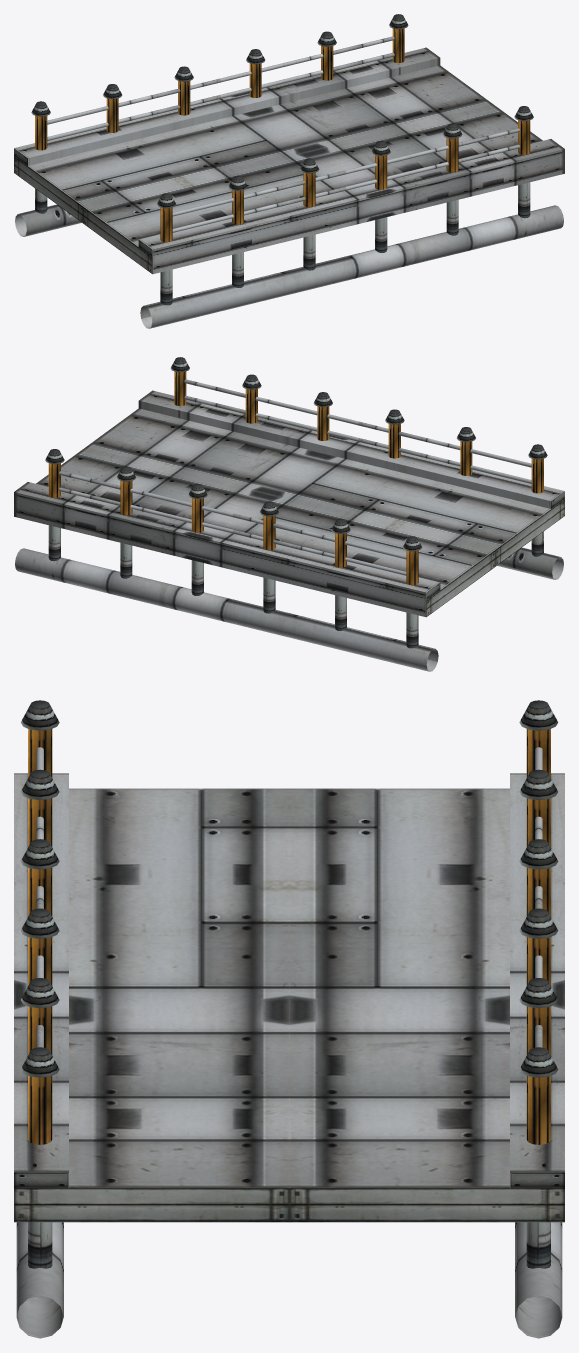
The model's file is ponteg.fbx.
The picture shows the model from 3 angles, top to bottom: view 1: azimuth 30°, elevation 25°; view 2: azimuth 150°, elevation 25°; view 3: azimuth 270°, elevation 25°; orthographic projection. The views are drawn at different scales.
Parts seen in each view (by area): view 1: Cube, Cube.001; view 2: Cube, Cube.001; view 3: Cube, Cube.001.
Boxes of the visible parts, bbox=[...] form: Cube: bbox=[14, 36, 564, 328]; Cube.001: bbox=[31, 14, 533, 305]; Cube: bbox=[14, 379, 564, 671]; Cube.001: bbox=[45, 357, 547, 648]; Cube: bbox=[14, 747, 564, 1338]; Cube.001: bbox=[20, 700, 558, 1268].
Bounding box in the file's own units: 8 × 2.37 × 4.66.
